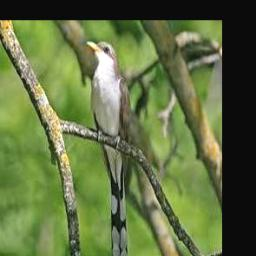Cuckoo: (86, 40, 133, 256)
